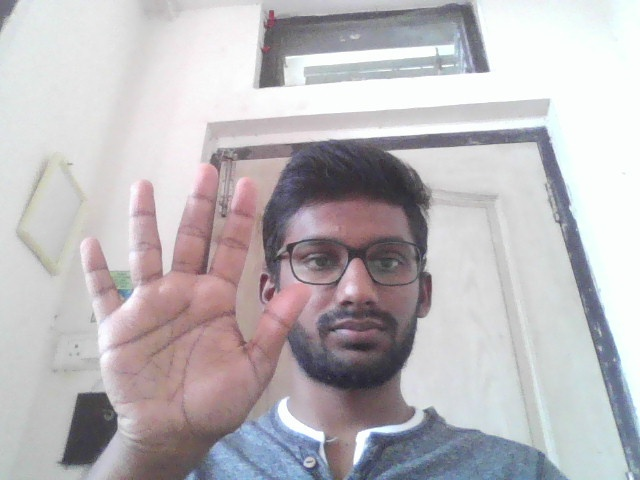Hello: (73, 161, 315, 443)
